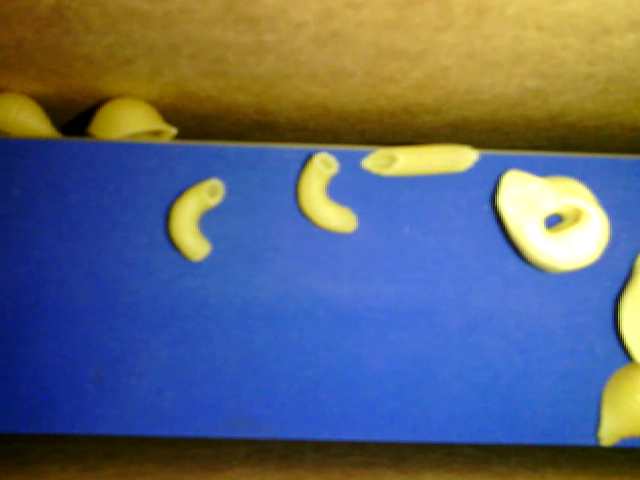elbow: (295, 149, 358, 232), (166, 177, 224, 258)
penne: (356, 142, 477, 176)
shell: (1, 76, 68, 141), (592, 357, 639, 445), (91, 92, 175, 140)
tortellini: (491, 166, 608, 275), (614, 245, 639, 361)
